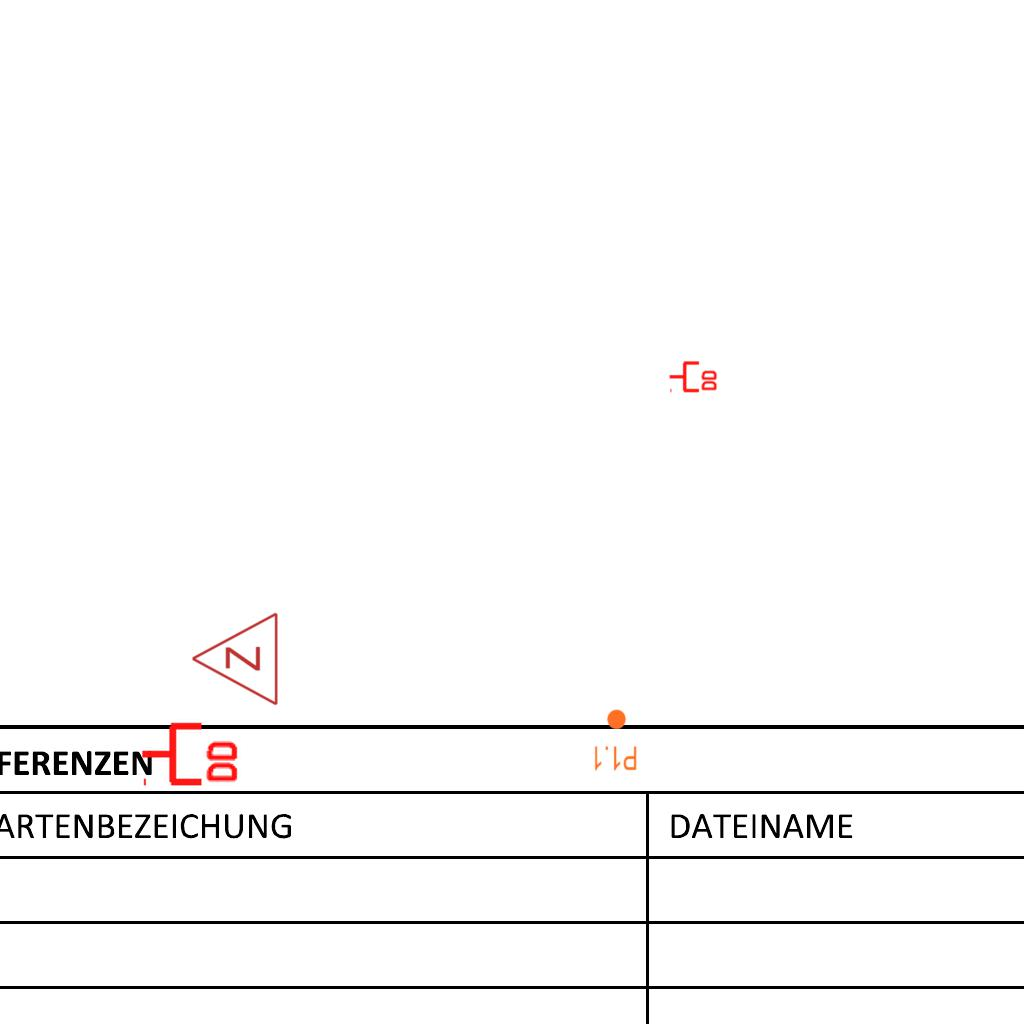Datenanschluss_zweifach: (139, 718, 242, 787), (668, 359, 719, 393)
Downlight_LED_Einbauleuchten_Flur: (592, 708, 638, 772)
Zimmersignalleuchte: (185, 611, 285, 709)
